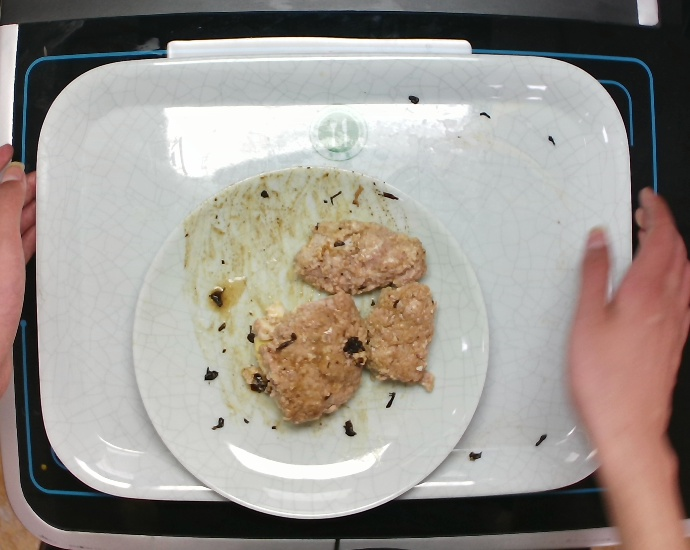JYsf-Da_Yuan_Pan: (129, 164, 491, 527)
